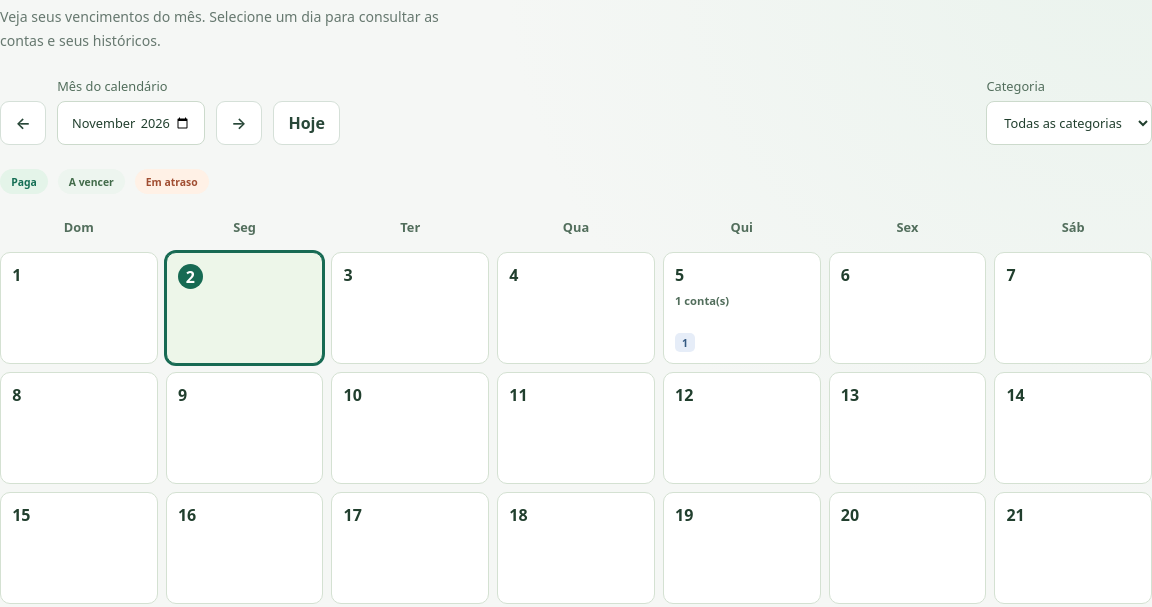
selecionar dia mostra contas e status sem alterar a data civil
Click the button "5 1 conta(s) 1" at (742, 308), box top-left (663, 252), bottom-right (820, 364)
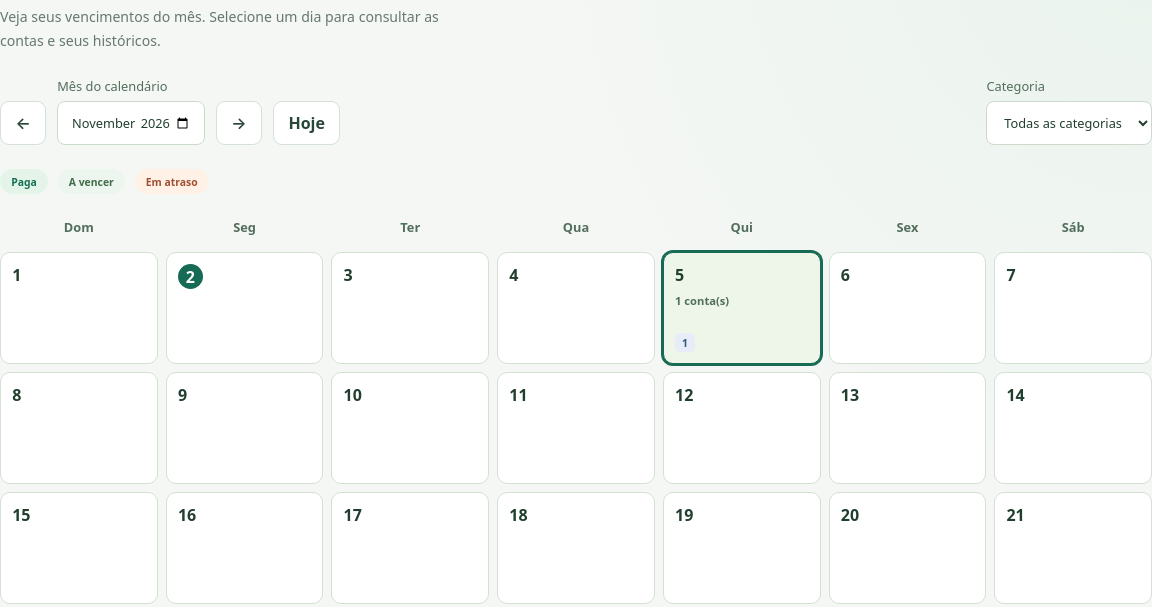
Click the button "→" at (239, 123), box top-left (216, 101), bottom-right (262, 145)
(page scrolled)
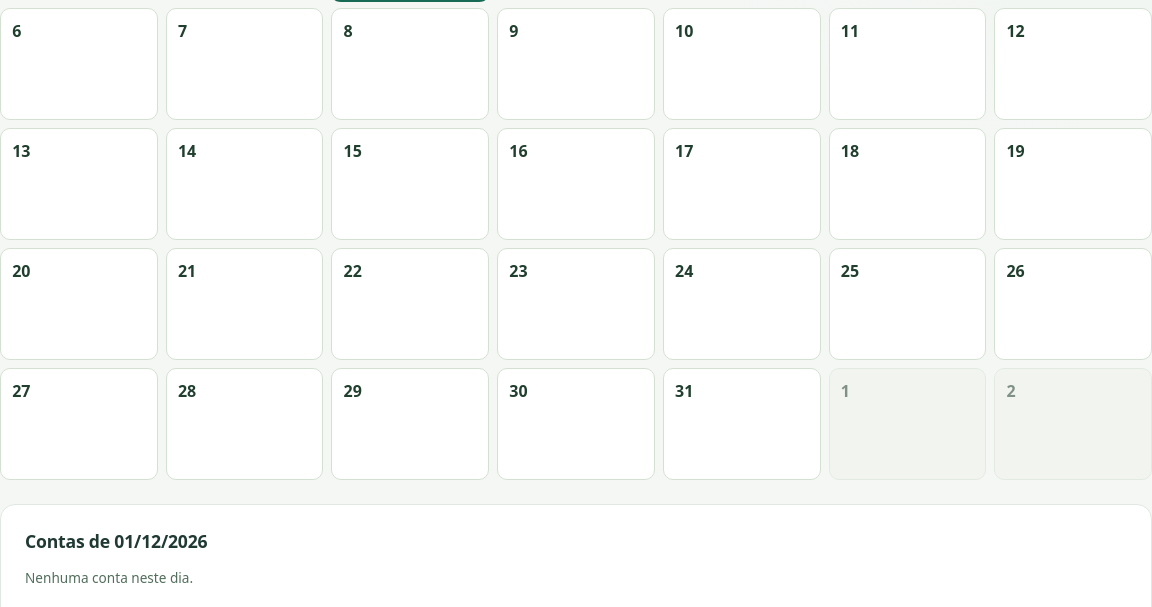
Expected: the element with class "calendar-selection" shows "Nenhuma conta", top-left (25, 568), bottom-right (190, 587)
